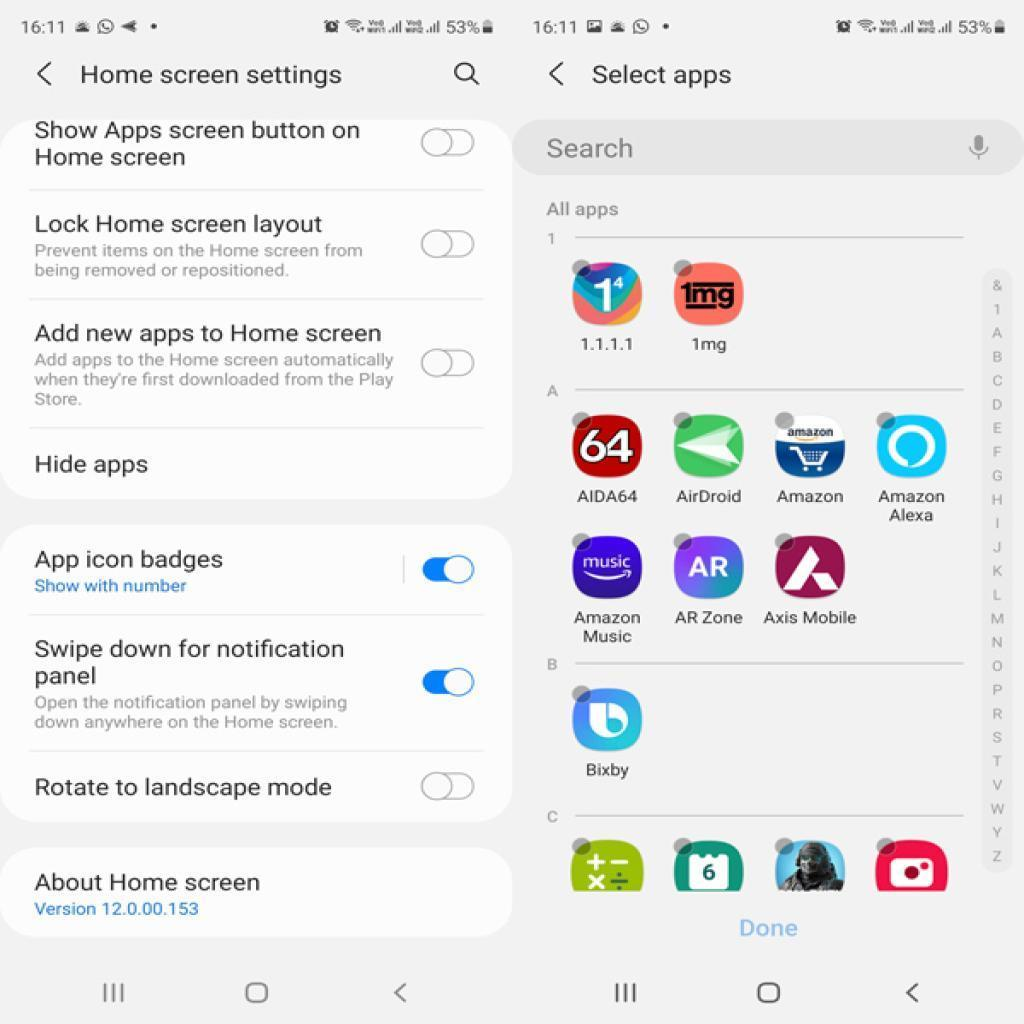switch: (418, 653, 483, 704), (418, 122, 483, 169), (421, 763, 482, 813), (422, 348, 481, 383), (419, 228, 478, 261), (424, 557, 477, 586)
